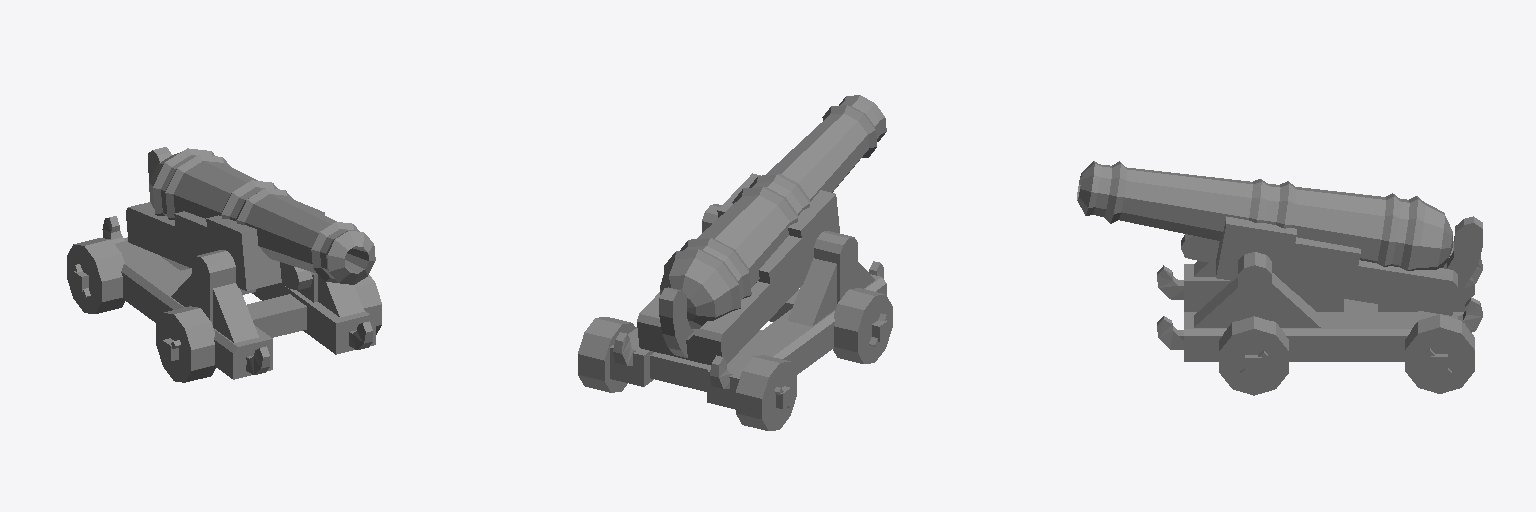
File: cannon.obj
3 renders of one model, left to right at view 1: azimuth 30°, elevation 25°; view 2: azimuth 150°, elevation 25°; view 3: azimuth 270°, elevation 25°, orthographic.
Parts seen in each view (by area): view 1: WS_Canon_01; view 2: WS_Canon_01; view 3: WS_Canon_01.
Part boxes in pixels (left/top/right/bottom): WS_Canon_01: left=67, top=147, right=381, bottom=382; WS_Canon_01: left=578, top=95, right=892, bottom=430; WS_Canon_01: left=1077, top=161, right=1482, bottom=395.
Bounding box in the file's own units: 16.72 × 14.49 × 28.68.